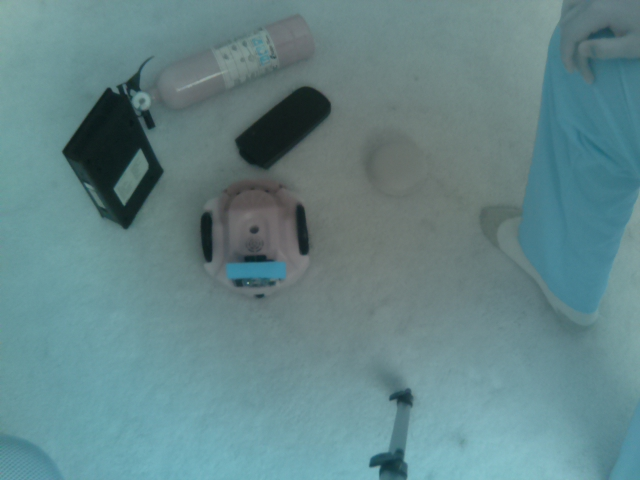board: (222, 251, 291, 294)
chassis: (188, 164, 322, 307)
